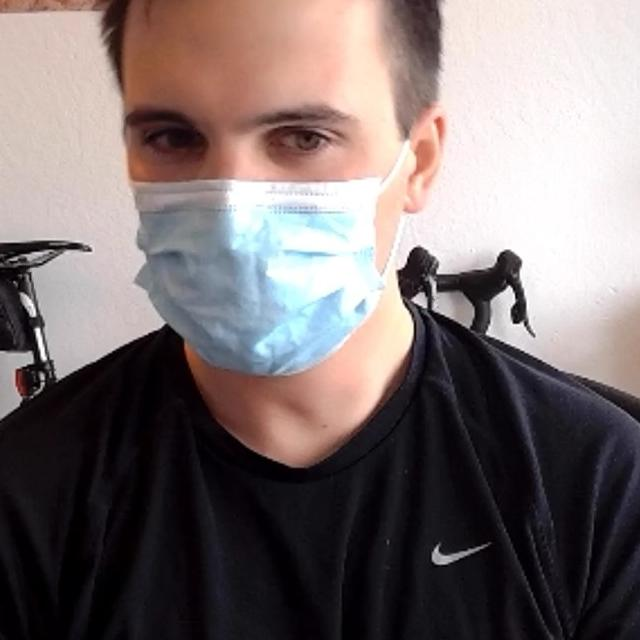Mask: (130, 138, 412, 373)
NO-Safety Vest: (4, 320, 549, 640)
Person: (0, 0, 640, 640)
